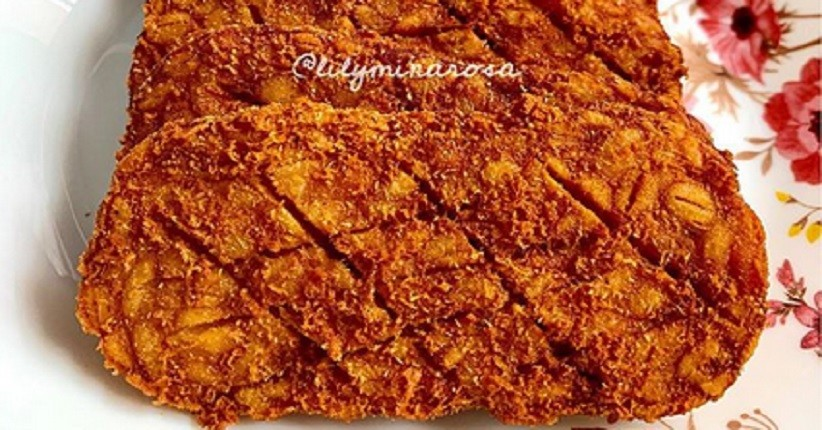Tempe: (109, 133, 753, 406)
